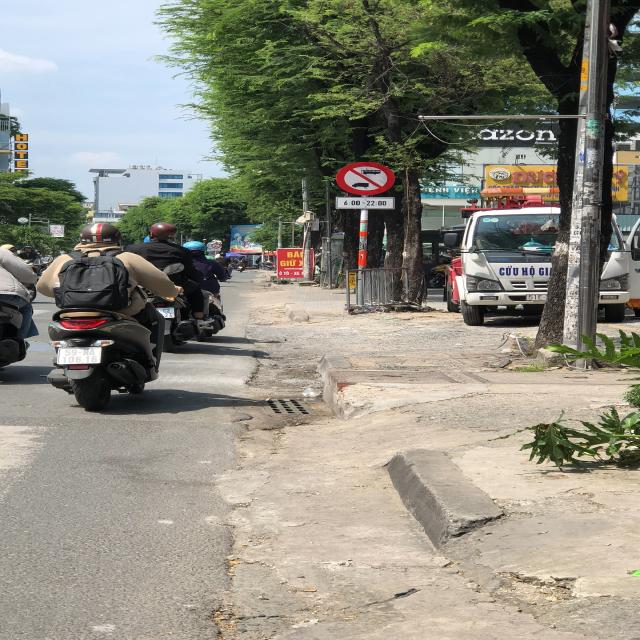Bien bao cam xe oto khach va xe oto tai: (334, 158, 394, 195)
